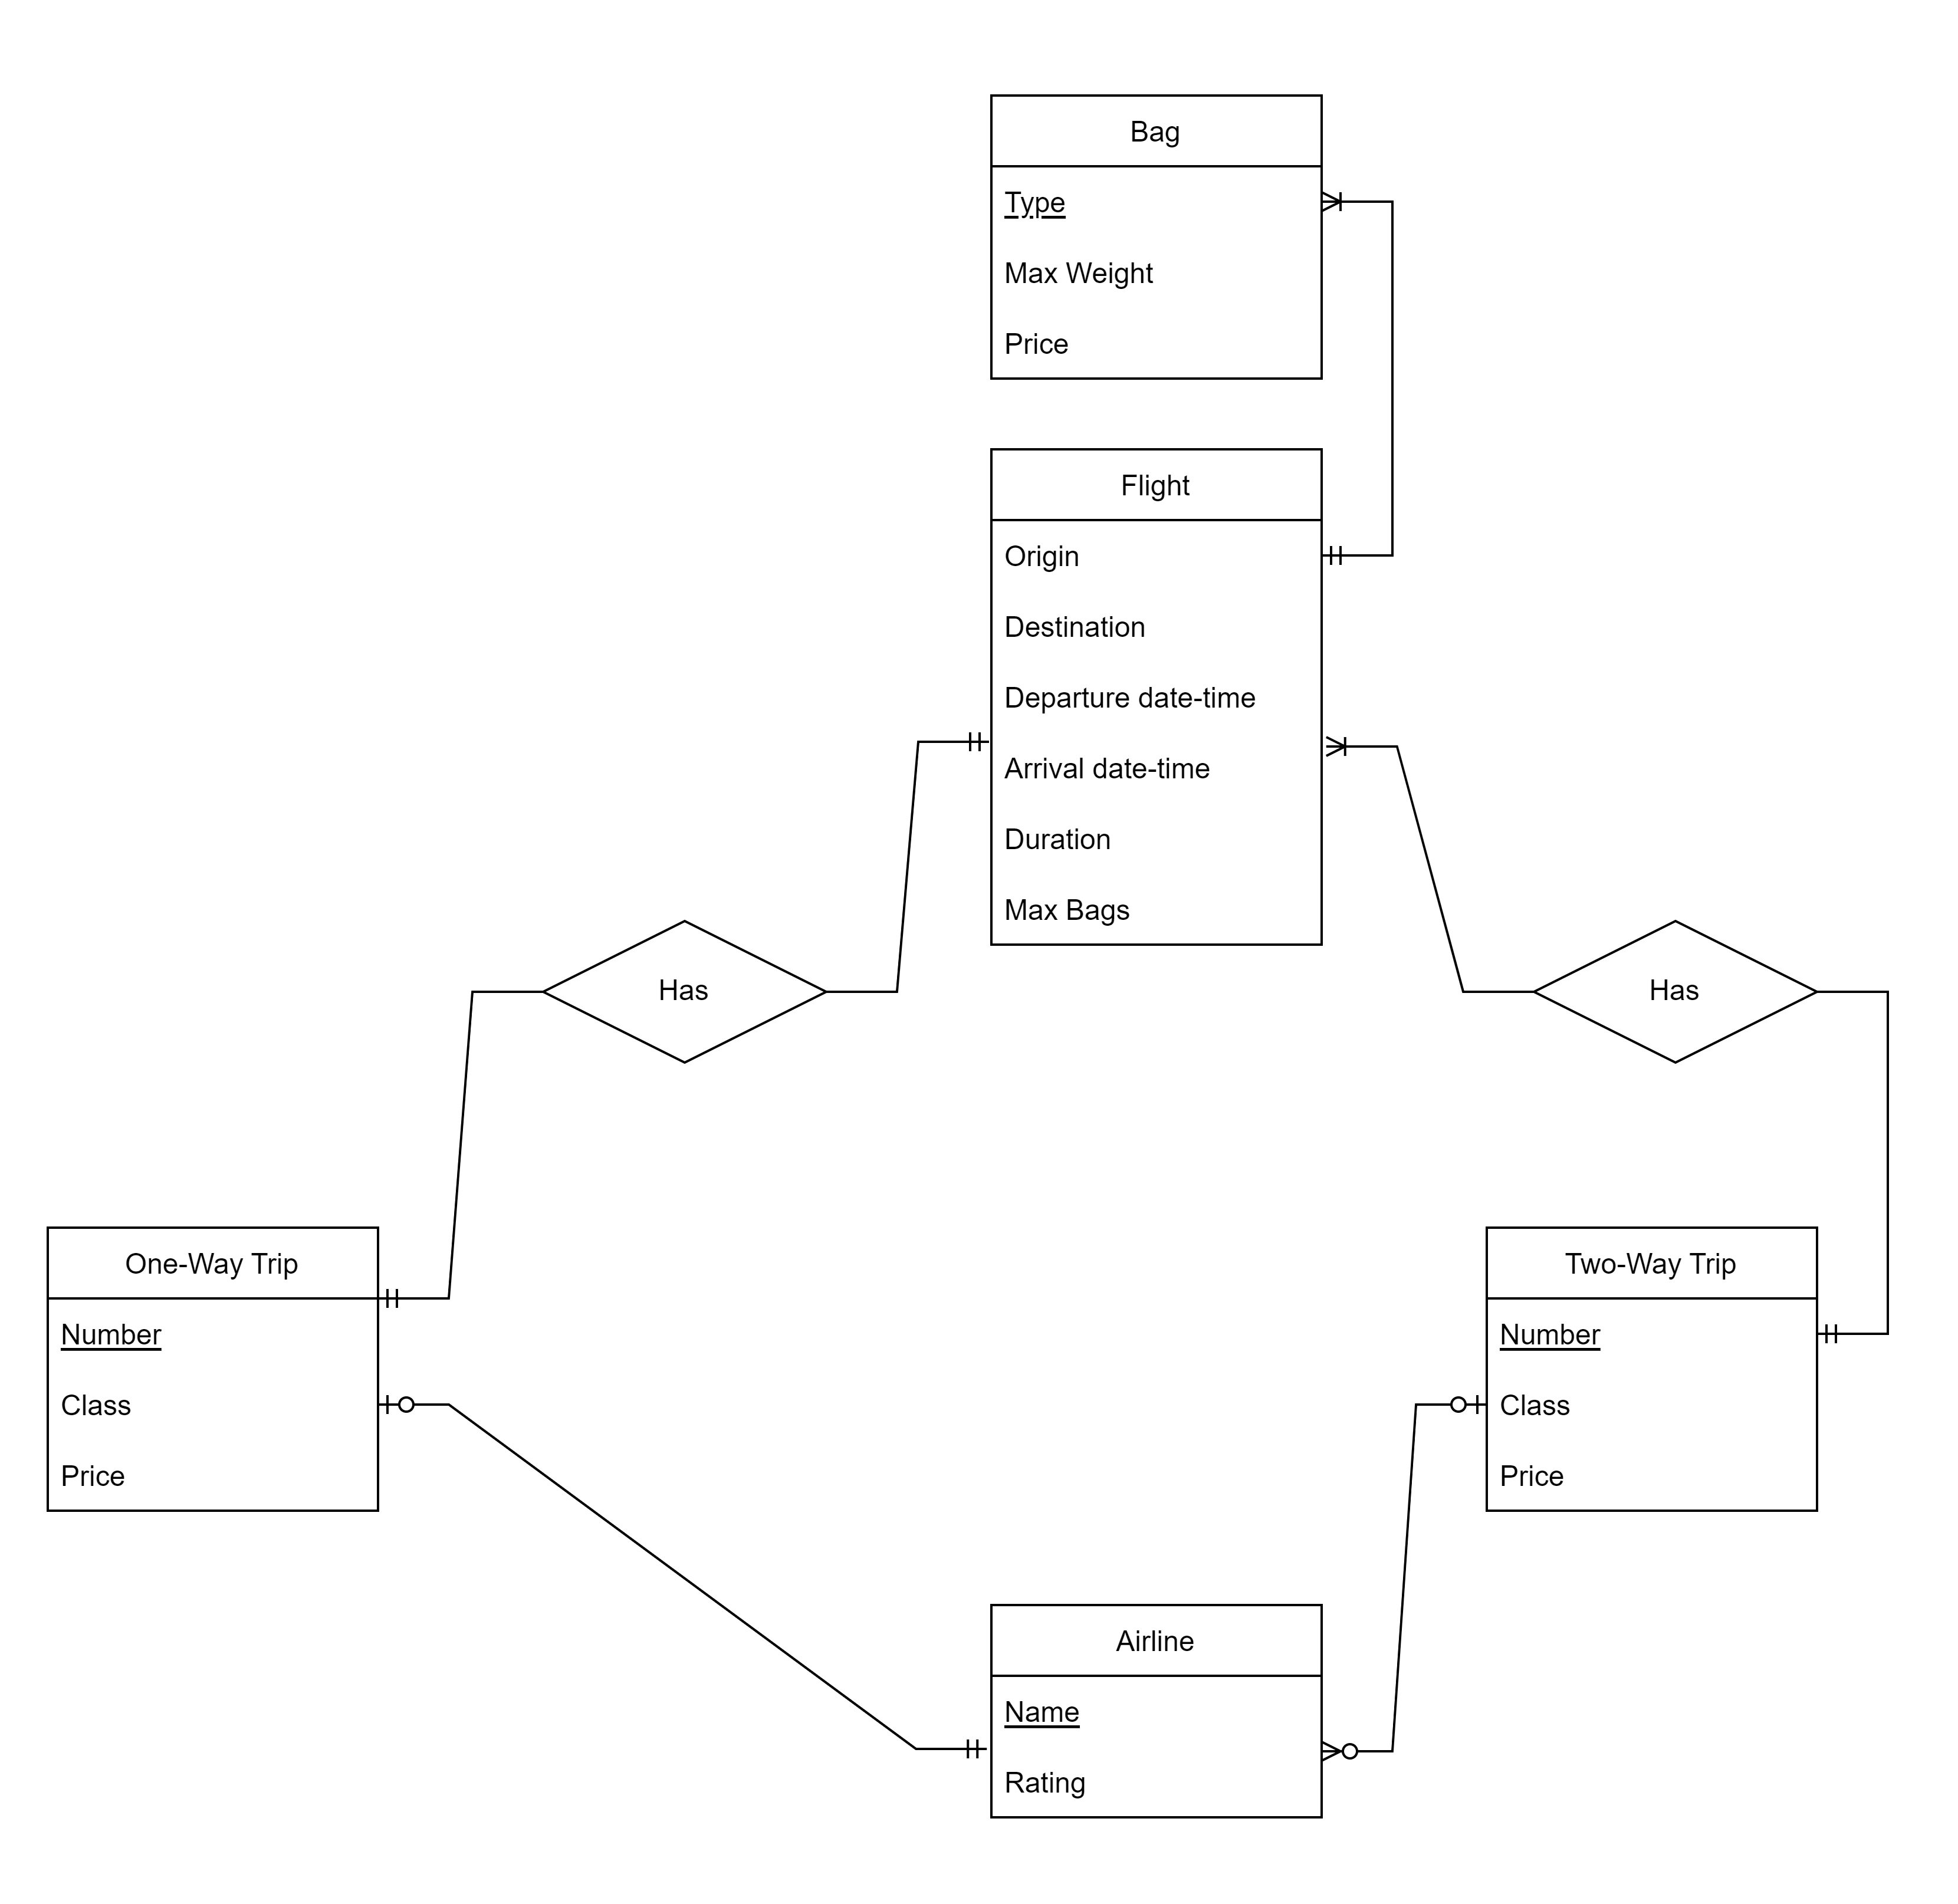entity: (989, 446, 1322, 953), (44, 1222, 379, 1511), (989, 94, 1329, 379), (1484, 1220, 1815, 1512), (988, 1600, 1323, 1820)
many: (1318, 171, 1400, 240), (1322, 1719, 1388, 1780), (1322, 722, 1399, 773)
one: (1413, 1371, 1489, 1439), (918, 720, 989, 771), (378, 1374, 448, 1421), (1822, 1308, 1890, 1355), (1318, 530, 1376, 582), (918, 1726, 991, 1766), (378, 1276, 444, 1317)
rel: (1535, 913, 1816, 1065), (547, 920, 822, 1056)
